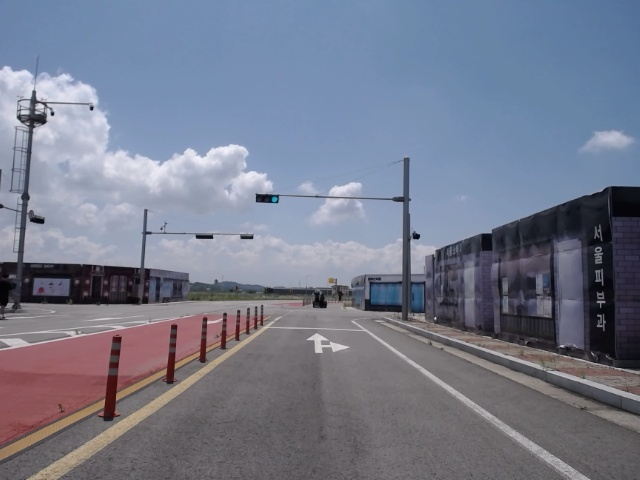green_3: (257, 195, 278, 204)
